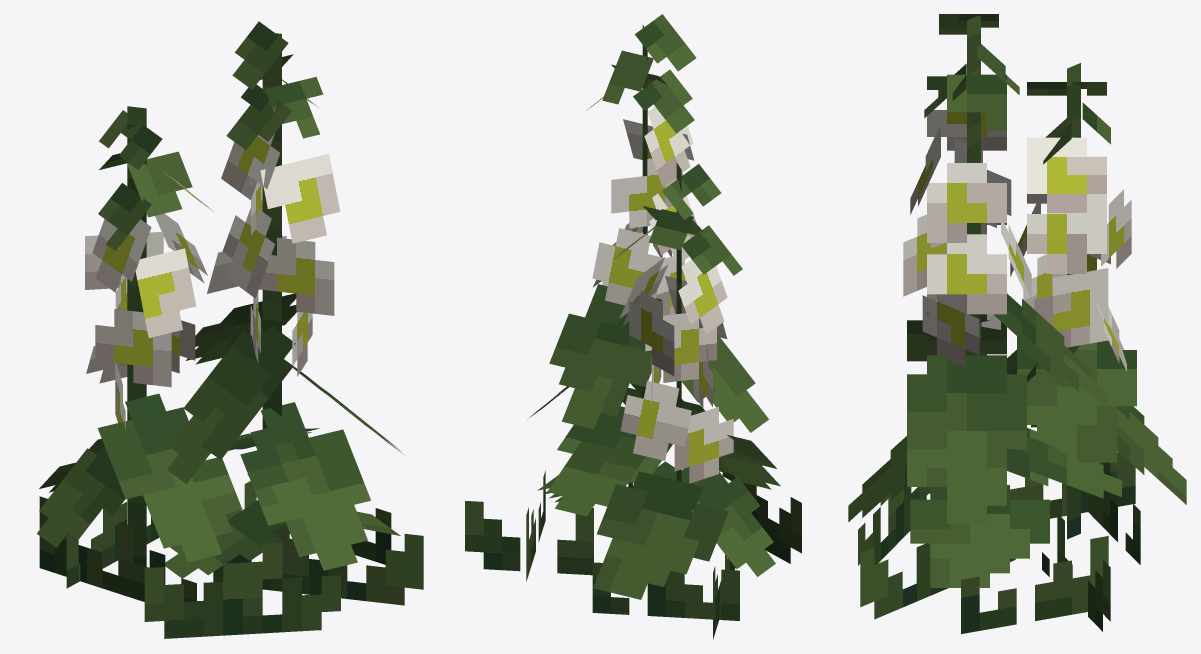
File: flower-white-tall.gltf
3 renders of one model, left to right at view 1: azimuth 30°, elevation 25°; view 2: azimuth 150°, elevation 25°; view 3: azimuth 270°, elevation 25°, orthographic. The views are drawn at different scales.
Visible parts, largest first — view 1: cube; view 2: cube; view 3: cube.
Part boxes in pixels (bbox=[...]): cube: bbox=[37, 21, 423, 638]; cube: bbox=[465, 14, 801, 639]; cube: bbox=[848, 14, 1186, 633].
Bounding box in the file's own units: 1.1 × 1.95 × 1.06.
1 material, 1 textured.
